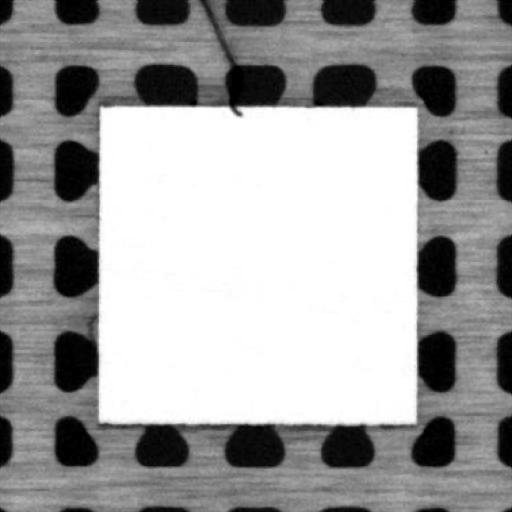DIE_INK: (227, 105, 244, 119)
